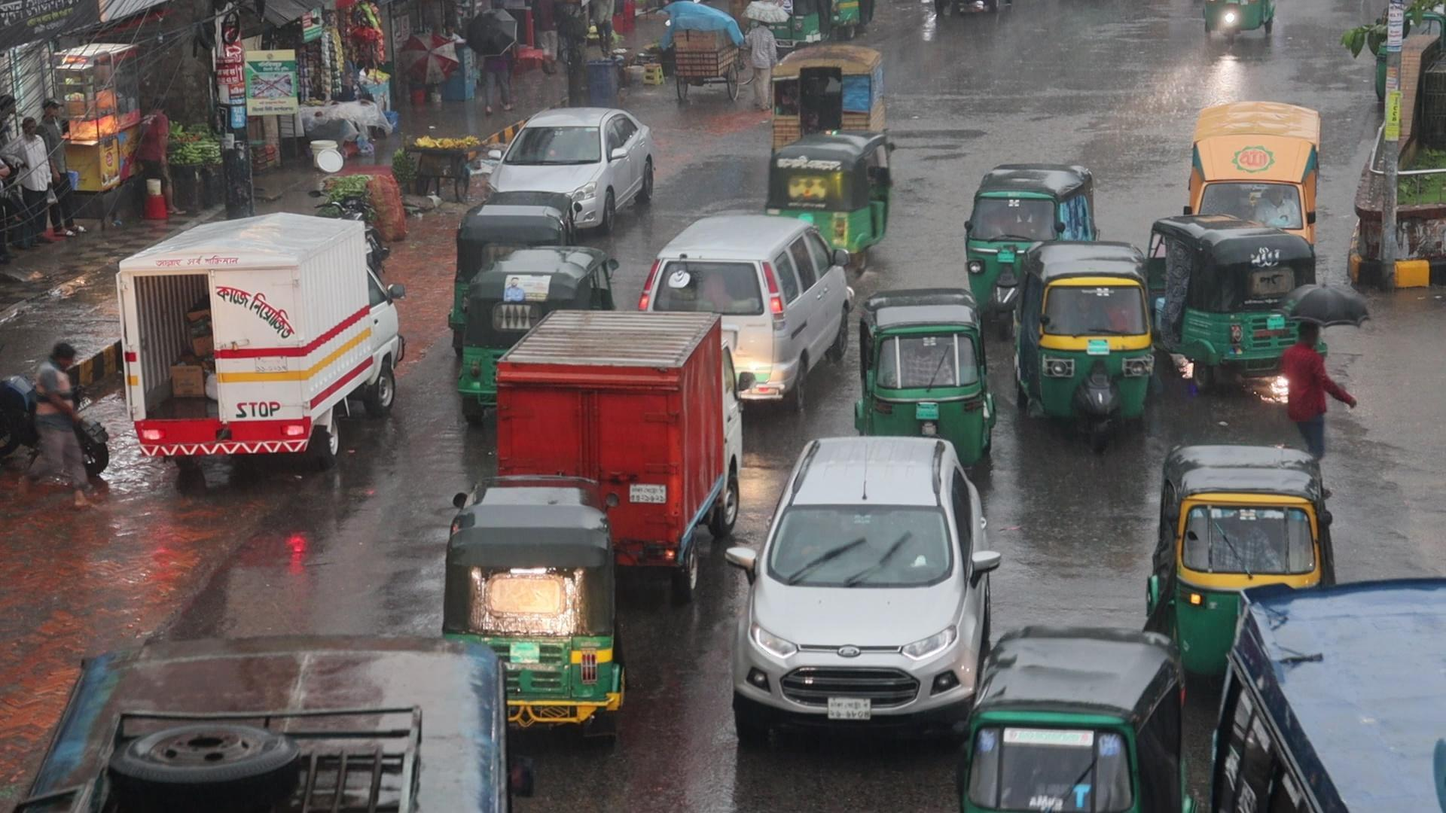Car: (723, 428, 999, 731), (638, 203, 851, 325)
Truck: (489, 306, 743, 498)
